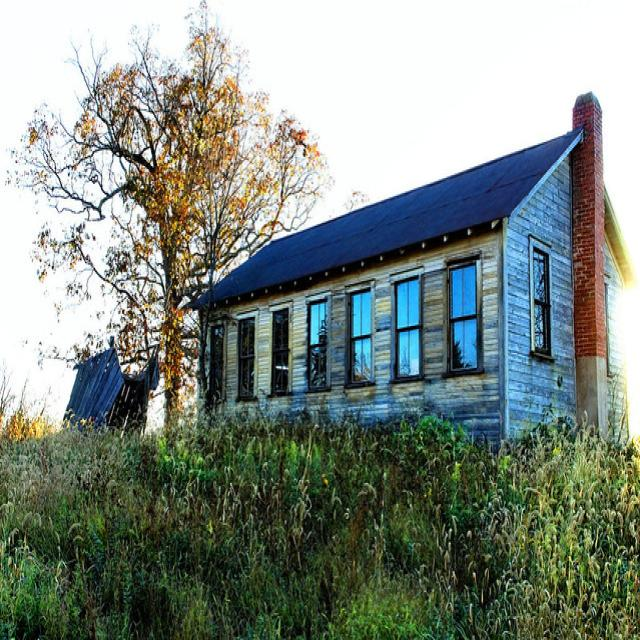building: (182, 92, 639, 460)
